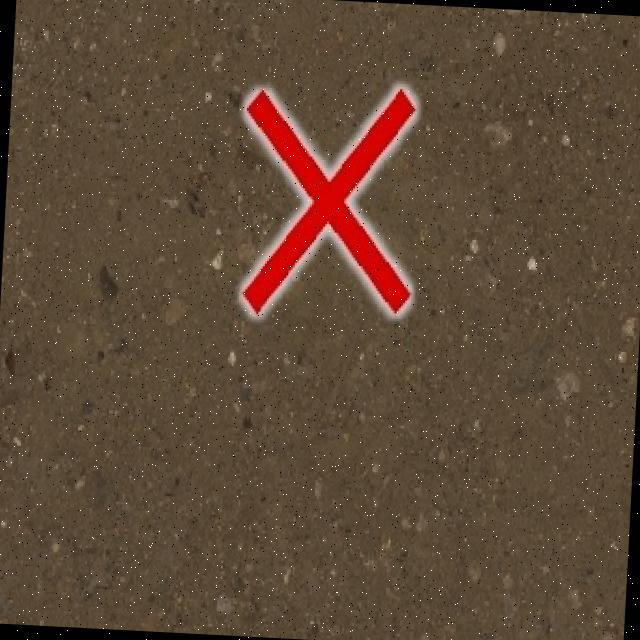x_marker: (236, 80, 420, 320)
